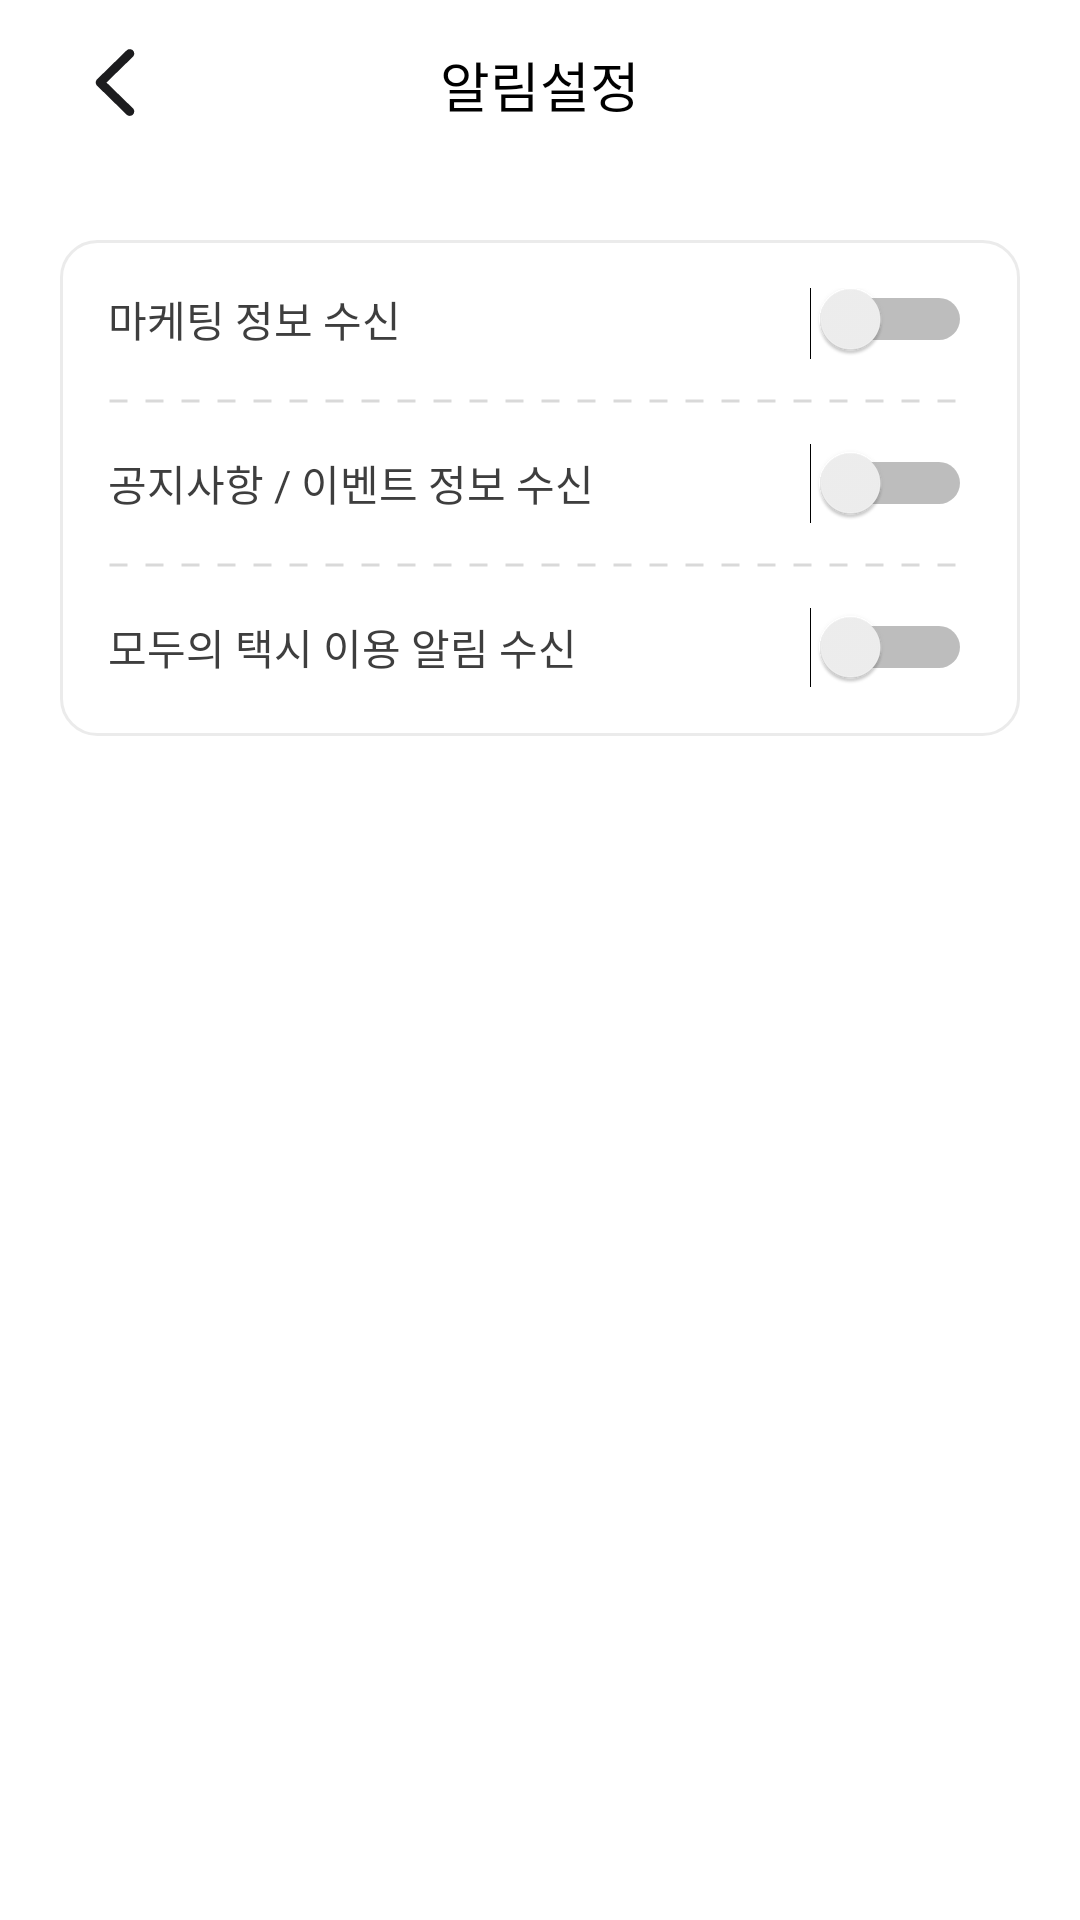

Icons on this 1080w x 1920h Android screen, each with the point to tap as point (x, y):
backward: point (115, 82)
